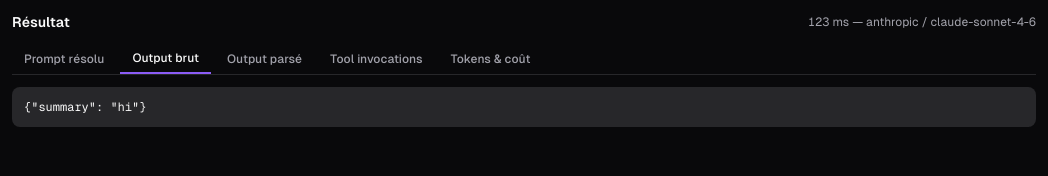
Scenario: OutputInspector › switches tabs and renders tab-specific content
expect the text with test id "playground-tab-raw-content" reads "{\"summary\": \"hi\"}": met, box 24,99 -> 146,115
Click the tab with test id "playground-tab-prompt".
click(64, 59)  # box 12,44 -> 116,74
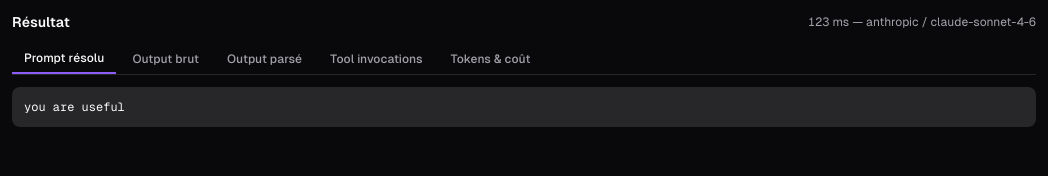
expect the text with test id "playground-tab-prompt-content" reads "you are useful": met, box 24,99 -> 125,115
Click the tab with test id "playground-tab-parsed".
click(264, 59)  # box 215,44 -> 314,74
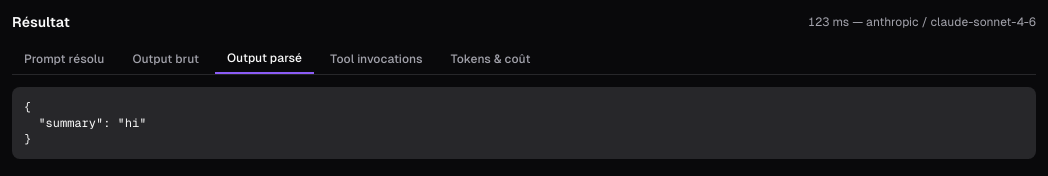
expect the element with test id "playground-tab-parsed-content" shows "\"summary\": \"hi\"": met, box 24,99 -> 146,147
